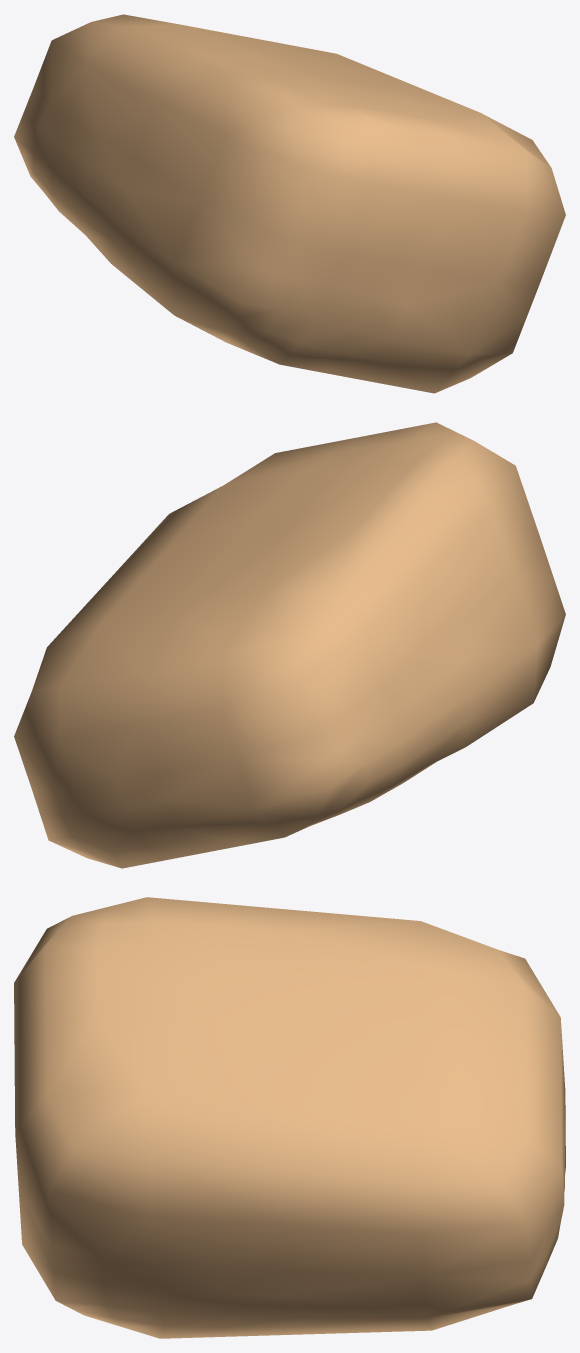
The model's file is pinky_03_l.dae.
3 renders of one model, top to bottom at view 1: azimuth 30°, elevation 25°; view 2: azimuth 150°, elevation 25°; view 3: azimuth 270°, elevation 25°, orthographic. The views are drawn at different scales.
Parts seen in each view (by area): view 1: skin_geo_pinky_03_r; view 2: skin_geo_pinky_03_r; view 3: skin_geo_pinky_03_r.
Boxes of the visible parts, x1,y1,x2,y2 form: skin_geo_pinky_03_r: [14, 14, 565, 393]; skin_geo_pinky_03_r: [14, 422, 565, 868]; skin_geo_pinky_03_r: [14, 897, 565, 1338].
Bounding box in the file's own units: 0.0187 × 0.0236 × 0.0163.
